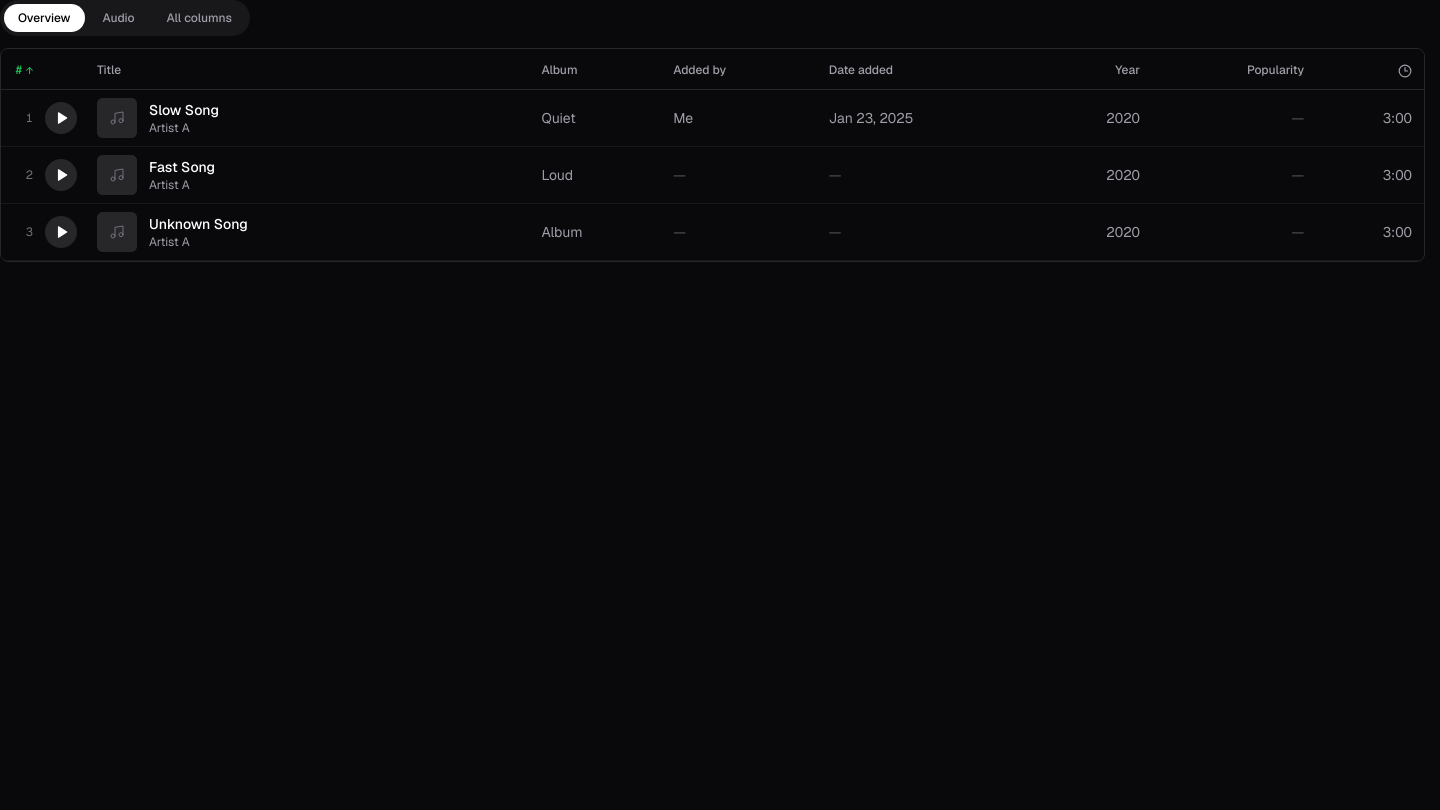
Scenario: TrackTable › shows empty states in the details panel when nothing is known
Click the button "Unknown Song Artist A".
click(117, 232)  # box [97,212,517,252]
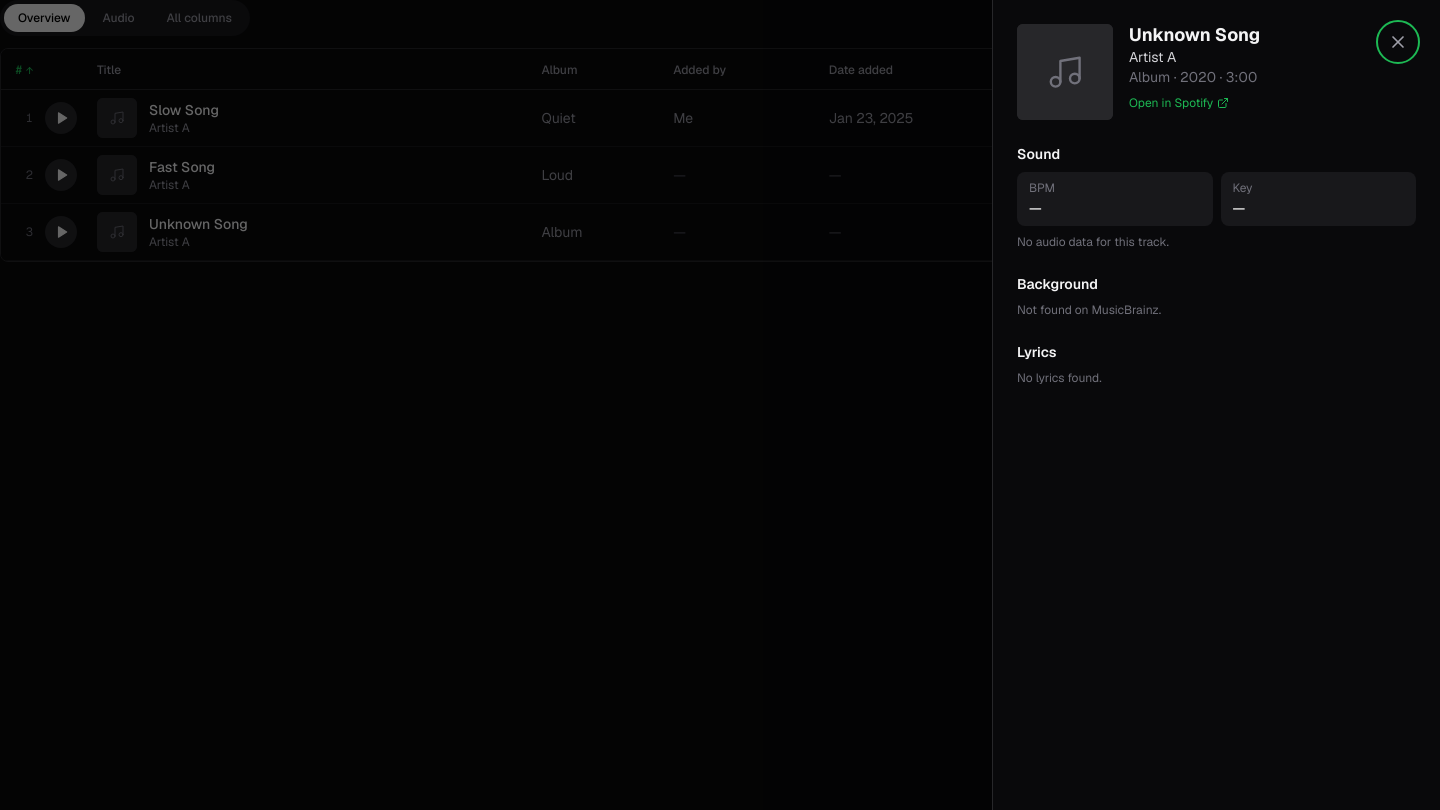
Now the text "No lyrics found." is shown, box [1017,370,1102,386]
Now the text "No audio data for this track." is shown, box [1017,234,1169,250]
Now the text "Not found on MusicBrainz." is shown, box [1017,302,1161,318]
